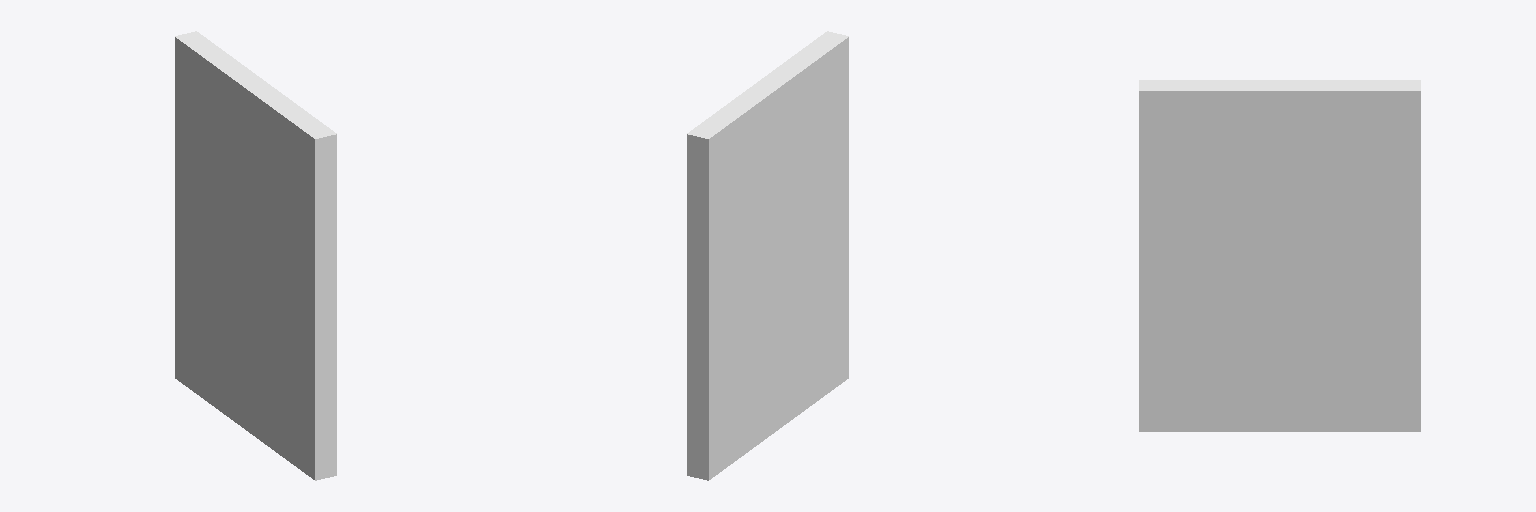
3 views of the same model, side by side, from view 1: azimuth 30°, elevation 25°; view 2: azimuth 150°, elevation 25°; view 3: azimuth 270°, elevation 25° (orthographic).
Visible parts, largest first — view 1: polySurface6pCube3; view 2: polySurface6pCube3; view 3: polySurface6pCube3.
Boxes of the visible parts, x1=… form: polySurface6pCube3: x1=175, y1=31, x2=336, y2=480; polySurface6pCube3: x1=687, y1=31, x2=848, y2=480; polySurface6pCube3: x1=1139, y1=80, x2=1420, y2=431.
Size of the model in its own units: 0.128 by 1.89 by 1.41.
Materials: 1 (1 with a texture image).